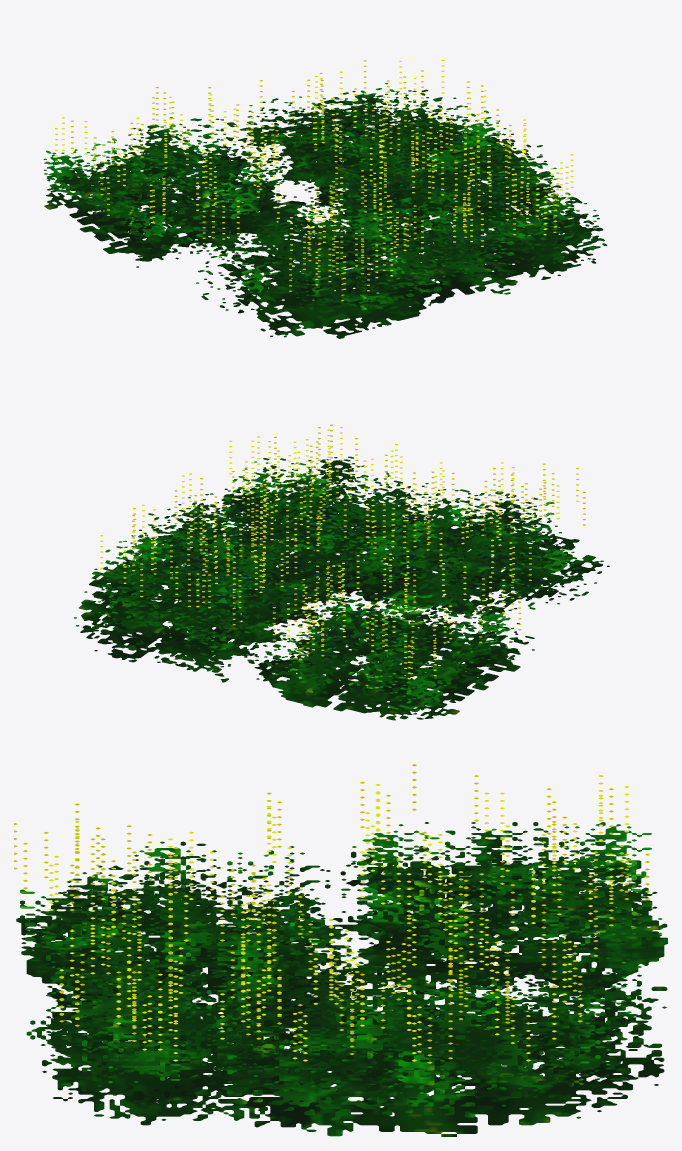
Rendered from koningskaars.fbx.
3 views of the same model, one above another, from view 1: azimuth 30°, elevation 25°; view 2: azimuth 150°, elevation 25°; view 3: azimuth 270°, elevation 25° (orthographic). The views are drawn at different scales.
Visible parts, largest first — view 1: koningskaars; view 2: koningskaars; view 3: koningskaars.
Part boxes in pixels (bbox=[...]): koningskaars: bbox=[43, 59, 607, 338]; koningskaars: bbox=[74, 424, 609, 720]; koningskaars: bbox=[14, 764, 667, 1136].
Bounding box in the file's own units: 1020 × 166 × 1020.
1 material, 1 textured.
